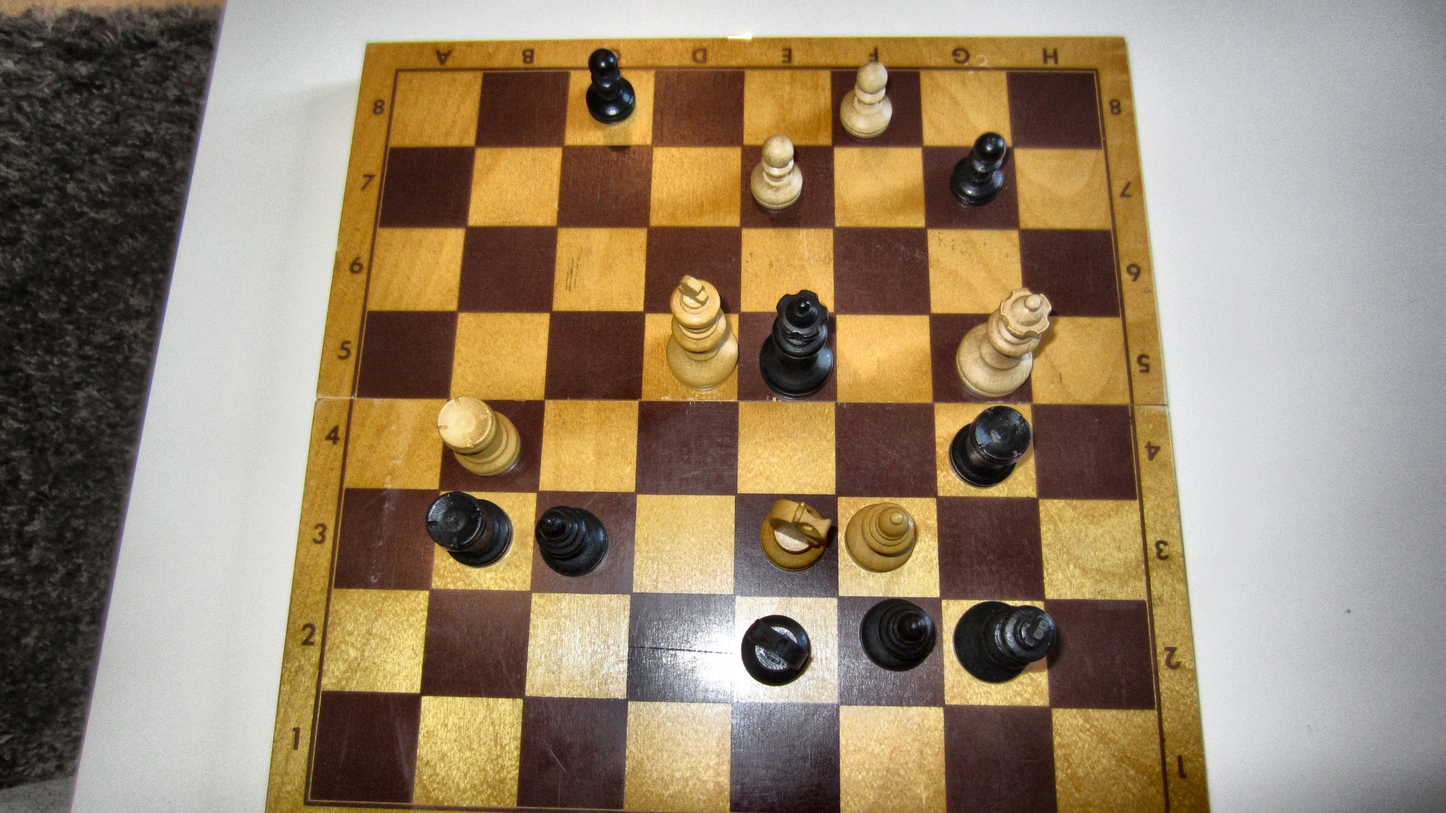black-bishop: (859, 597, 936, 672), (534, 506, 610, 578)
black-king: (952, 600, 1056, 684)
black-knight: (739, 613, 813, 687)
black-pawn: (950, 131, 1006, 206), (584, 48, 637, 123)
black-queen: (759, 289, 835, 399)
black-rook: (948, 405, 1032, 489), (424, 490, 513, 567)
white-bishop: (843, 501, 917, 574)
white-king: (665, 274, 739, 390)
white-knight: (758, 498, 832, 572)
white-pawn: (838, 60, 894, 140), (749, 134, 804, 210)
white-queen: (954, 286, 1053, 397)
white-rook: (437, 395, 521, 477)
